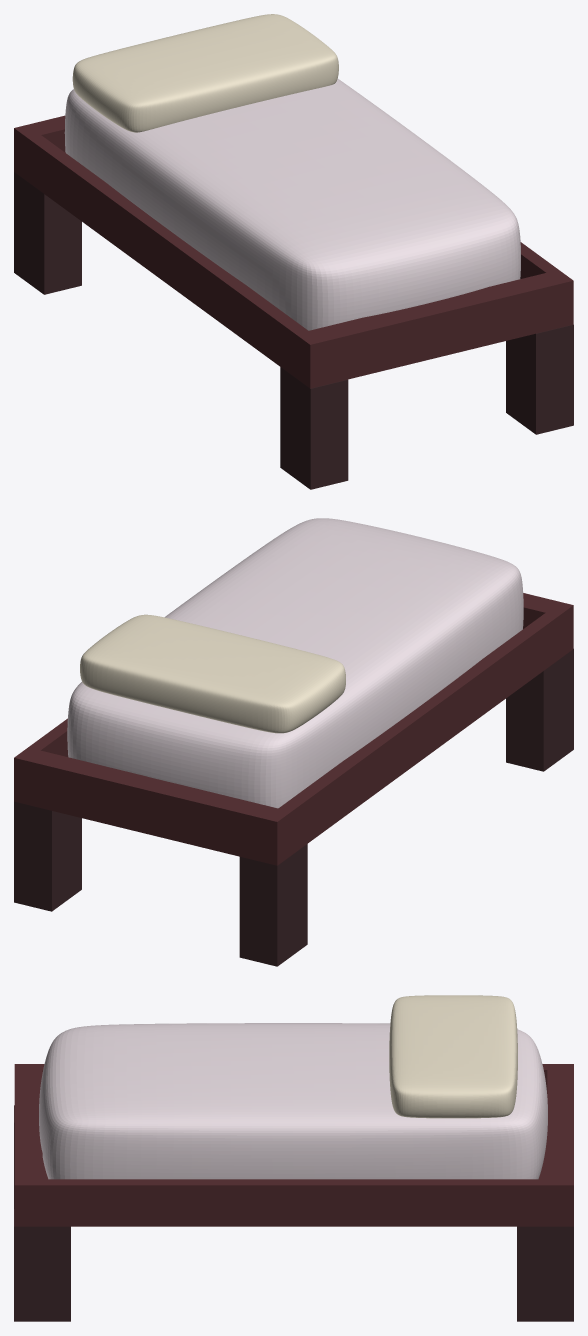
Rendered from bed.fbx.
3 views of the same model, one above another, from view 1: azimuth 30°, elevation 25°; view 2: azimuth 150°, elevation 25°; view 3: azimuth 270°, elevation 25° (orthographic). The views are drawn at different scales.
Parts seen in each view (by area): view 1: mattress, bed frame, pillow, Cube; view 2: mattress, bed frame, pillow, Cube; view 3: mattress, bed frame, pillow, Cube.
Boxes of the visible parts, x1,y1,x2,y2 form: mattress: (64, 78, 520, 330); bed frame: (14, 115, 573, 388); pillow: (72, 14, 338, 132); Cube: (14, 172, 573, 489); mattress: (67, 518, 523, 808); bed frame: (14, 593, 573, 865); pillow: (80, 614, 345, 733); Cube: (14, 649, 573, 966); mattress: (39, 1023, 547, 1179); bed frame: (14, 1064, 573, 1226); pillow: (389, 995, 517, 1118); Cube: (14, 1105, 573, 1321).
Bounding box in the file's own units: 154 × 130 × 299.
